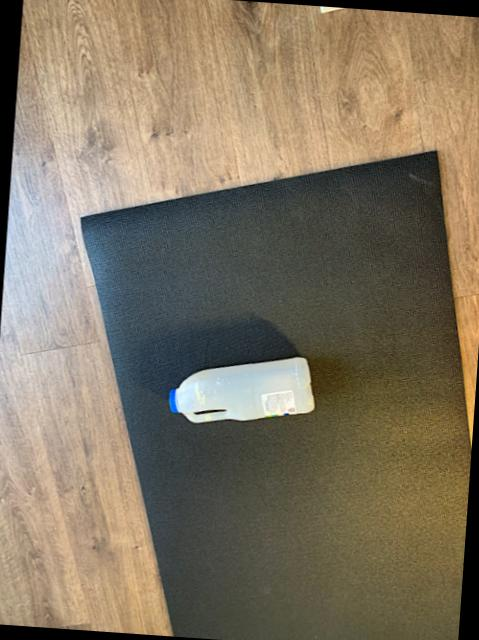plastic: (167, 357, 311, 423)
